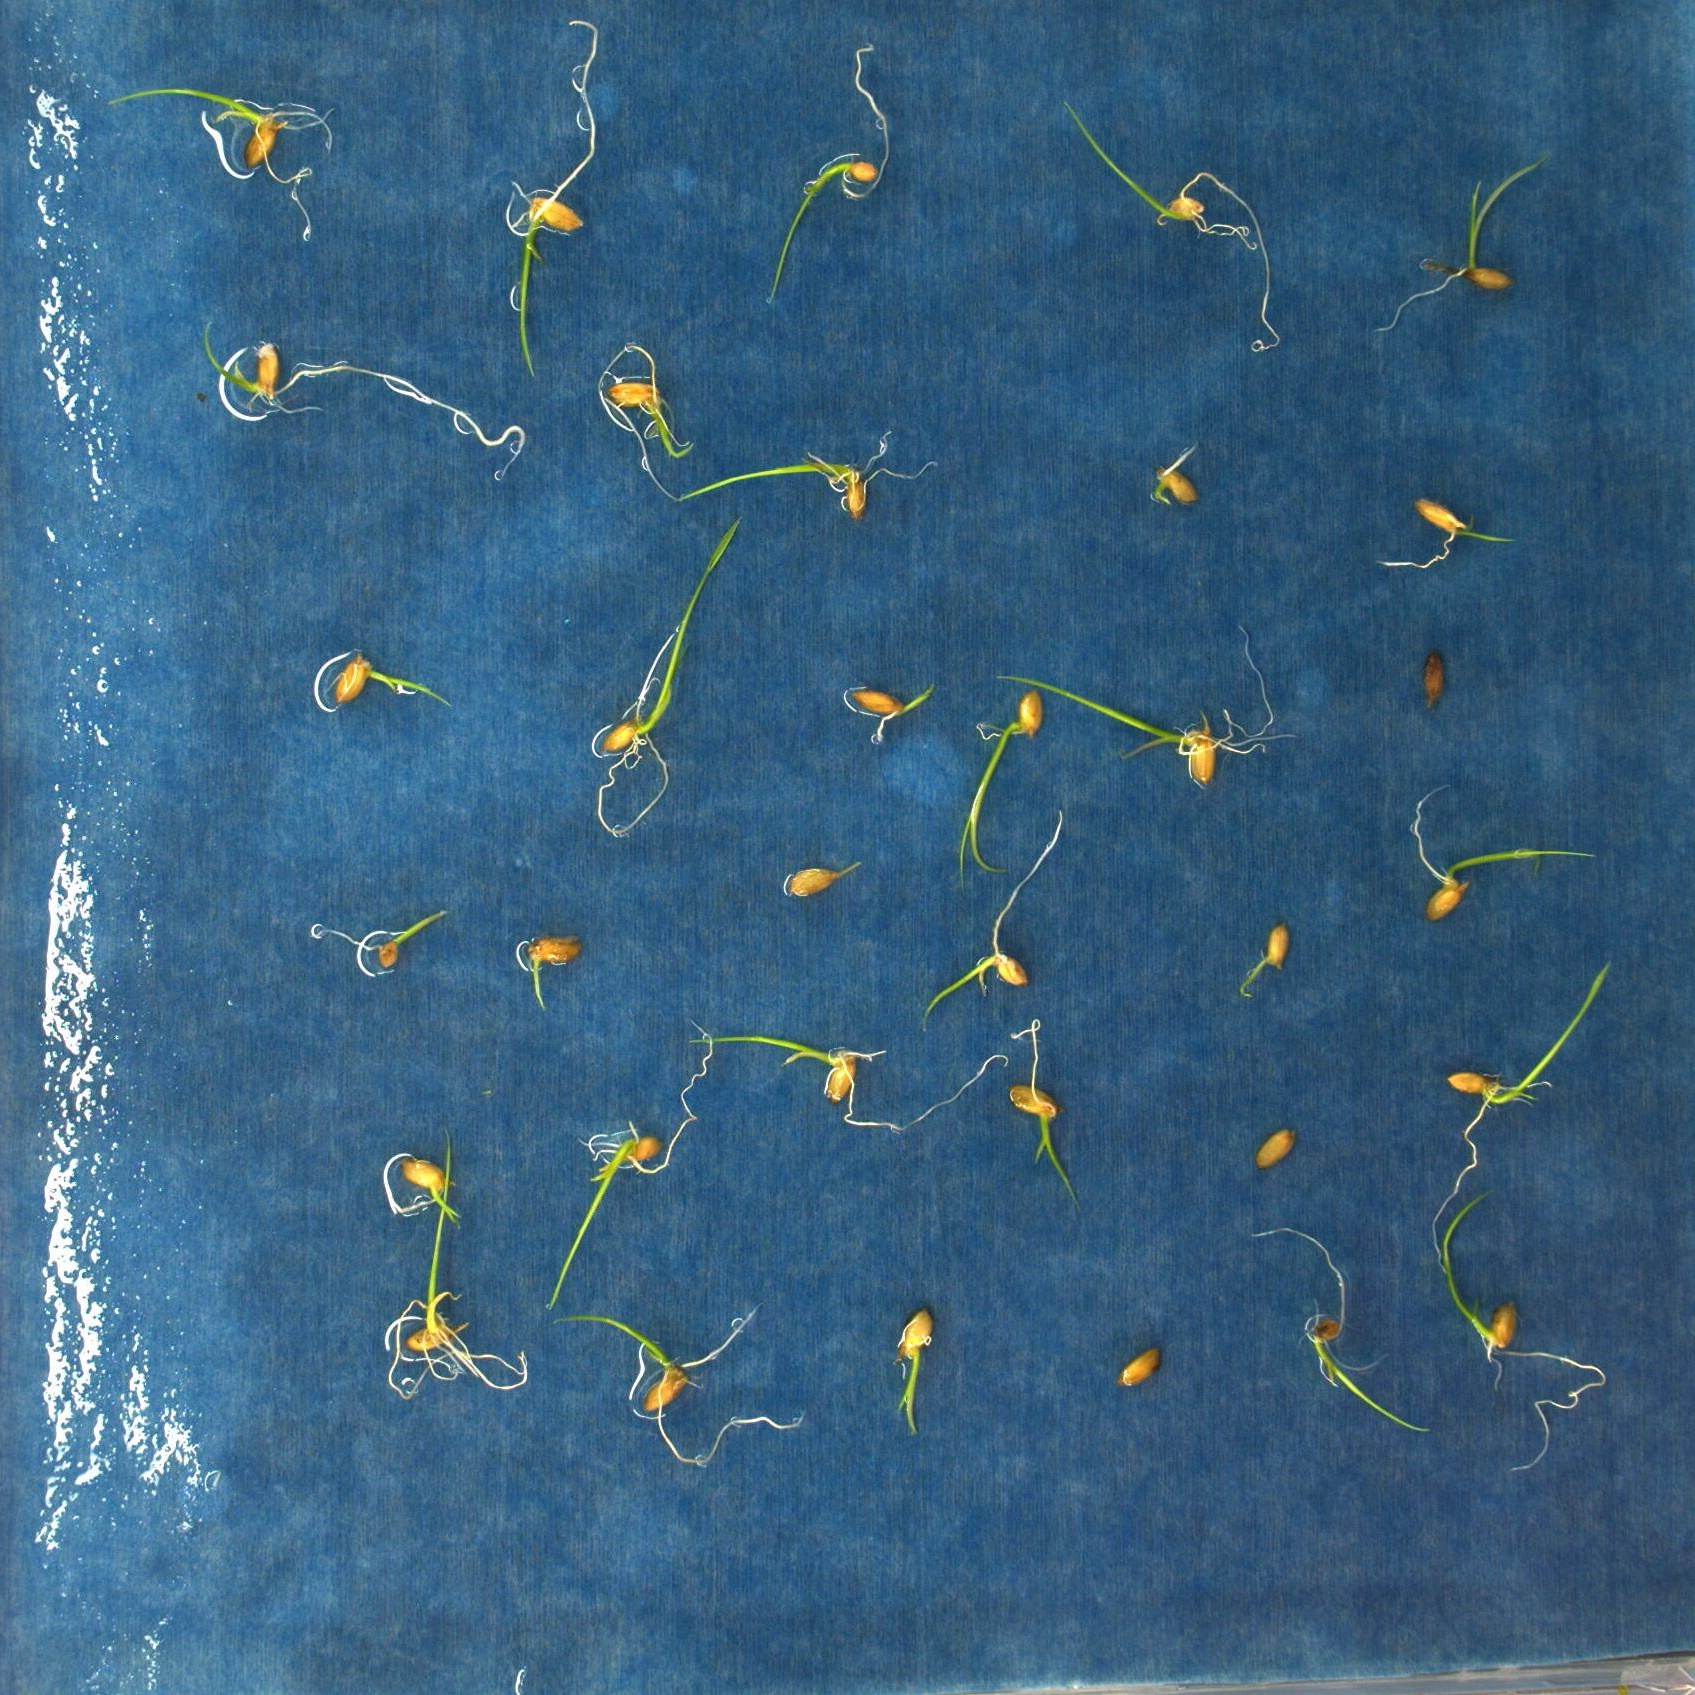not sprout: (1138, 432, 1215, 532), (511, 920, 582, 1014), (778, 861, 868, 908), (1406, 641, 1453, 712), (1240, 1125, 1304, 1172), (1104, 1336, 1156, 1391)
sprout: (1416, 1172, 1613, 1481), (1049, 98, 1281, 349), (542, 1014, 717, 1327), (192, 335, 539, 489), (590, 511, 747, 849), (976, 640, 1315, 789), (543, 1296, 818, 1476), (500, 16, 629, 390), (1430, 958, 1613, 1220), (84, 65, 341, 247), (1246, 1218, 1426, 1478), (365, 1127, 529, 1405), (900, 806, 1083, 1024), (761, 43, 903, 309), (1391, 771, 1617, 934), (680, 1023, 1009, 1135), (1377, 154, 1546, 352), (941, 677, 1059, 905), (675, 438, 938, 534), (587, 338, 692, 497), (1358, 489, 1530, 577), (998, 1010, 1082, 1192), (306, 640, 456, 730), (296, 903, 456, 983), (872, 1301, 945, 1444), (830, 671, 938, 740), (386, 1147, 469, 1232), (1237, 924, 1301, 1004)
